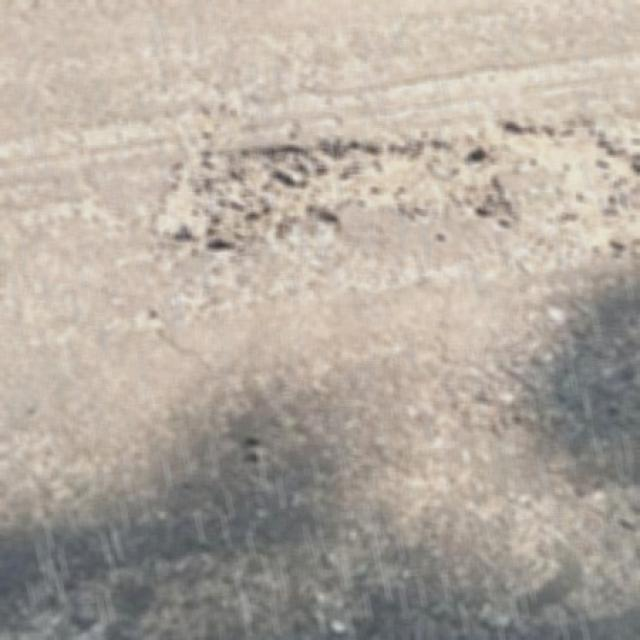road-pothole: (146, 118, 637, 249)
